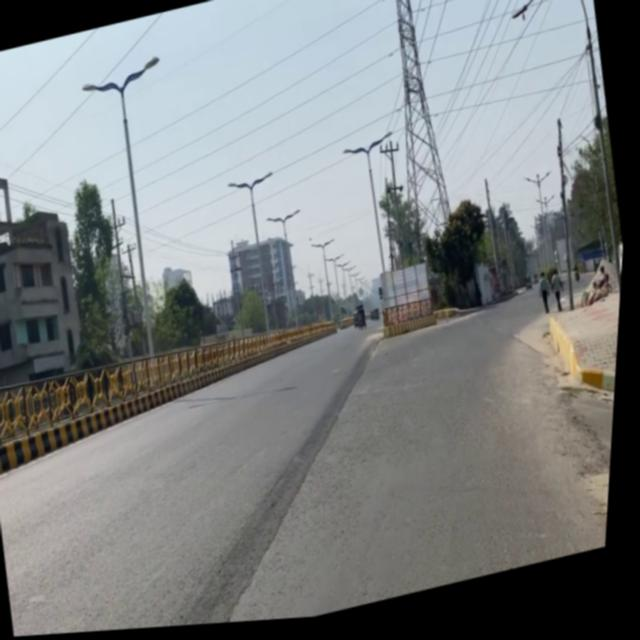Construction-barrier: (157, 445, 358, 630), (547, 316, 587, 388), (384, 310, 465, 344), (581, 364, 621, 418)
Fallen-tree: (353, 308, 371, 337)
Garbage: (375, 265, 444, 343)
Garbage-bin: (549, 274, 572, 321), (538, 278, 558, 322), (574, 271, 584, 291)
Pole: (0, 315, 315, 500)
Pothole: (466, 288, 625, 578)
